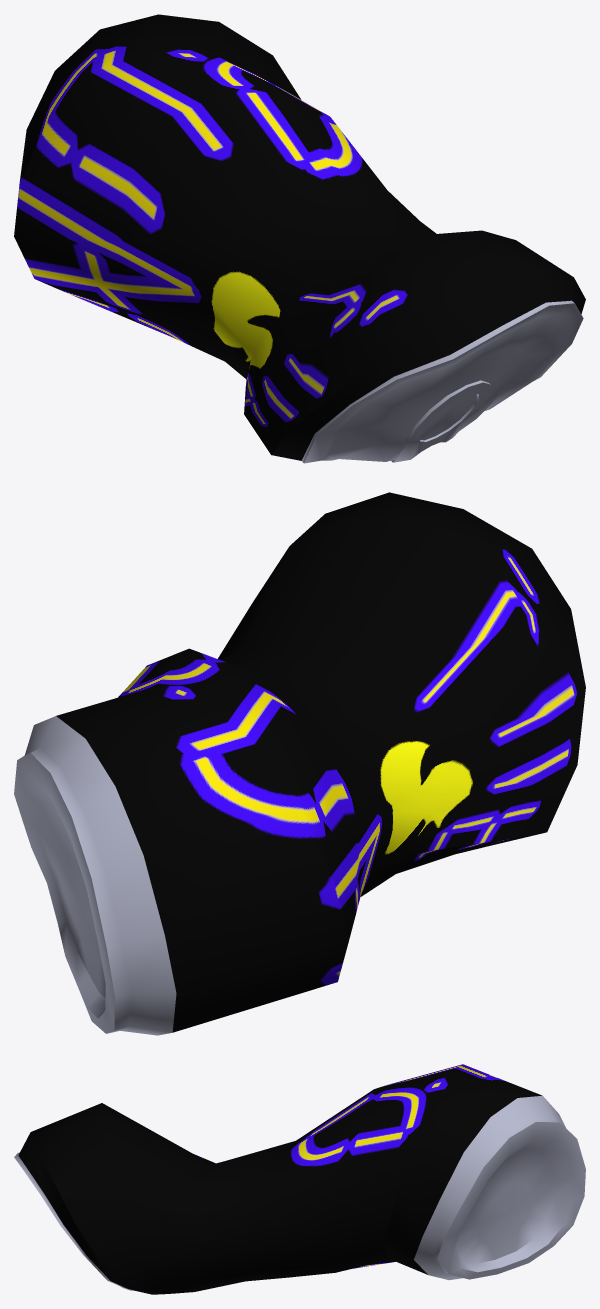
File: Misc_BeverageCan_02_Crushed_A.glb
3 views of the same model, one above another, from view 1: azimuth 30°, elevation 25°; view 2: azimuth 150°, elevation 25°; view 3: azimuth 270°, elevation 25° (orthographic). The views are drawn at different scales.
Visible parts, largest first — view 1: Misc_BeverageCan_02_Crushed_A.001; view 2: Misc_BeverageCan_02_Crushed_A.001; view 3: Misc_BeverageCan_02_Crushed_A.001.
Part boxes in pixels (x1,y1,x2,y2): Misc_BeverageCan_02_Crushed_A.001: (14,14,585,463); Misc_BeverageCan_02_Crushed_A.001: (14,492,585,1035); Misc_BeverageCan_02_Crushed_A.001: (14,1064,585,1294).
Size of the model in its own units: 0.081 by 0.0606 by 0.1675.
Materials: 2 (1 with a texture image).
